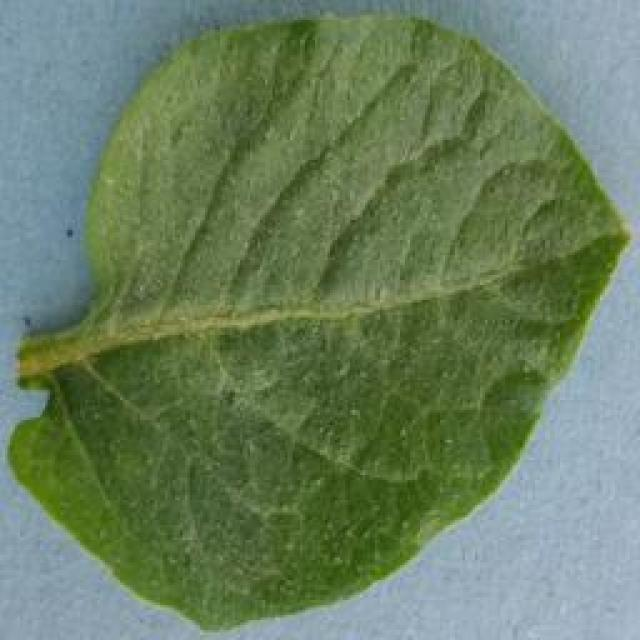Potato_Healthy: (2, 17, 629, 640)
